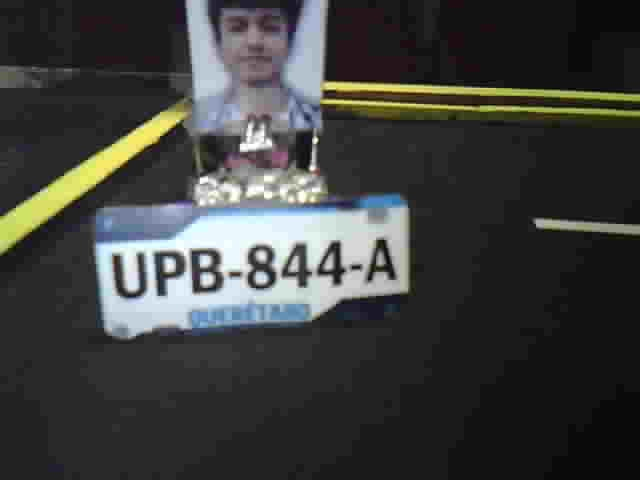PLACA: (90, 192, 414, 345)
ROSTRO: (190, 1, 325, 136)
